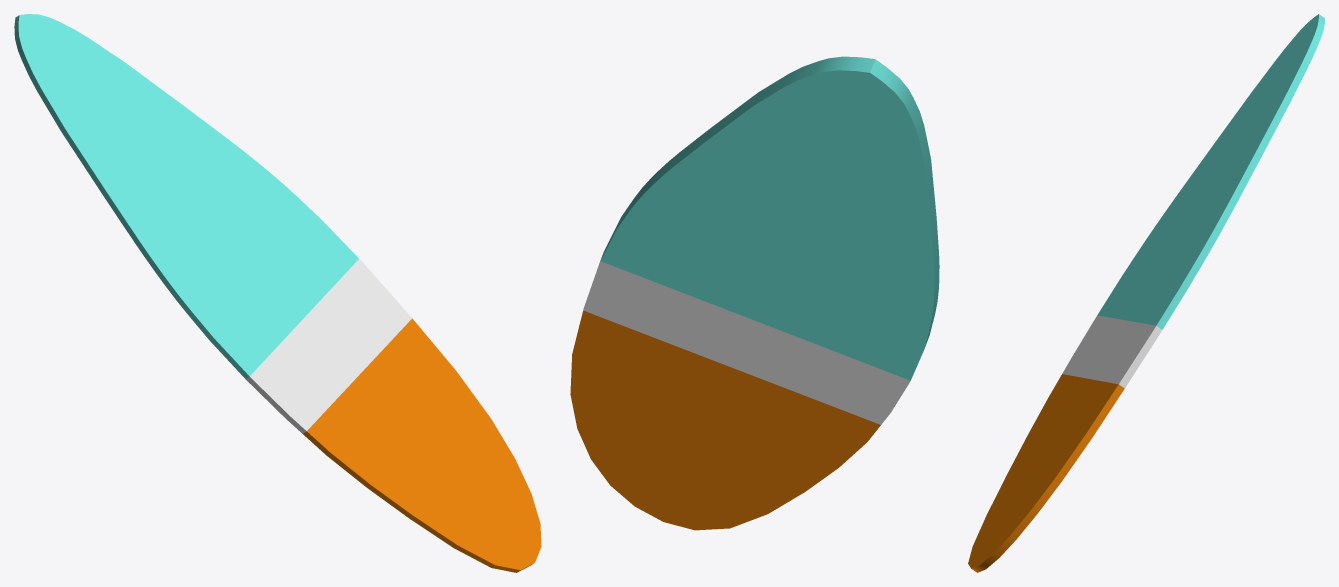
File: surfboard.glb
3 views of the same model, side by side, from view 1: azimuth 30°, elevation 25°; view 2: azimuth 150°, elevation 25°; view 3: azimuth 270°, elevation 25° (orthographic). The views are drawn at different scales.
Visible parts, largest first — view 1: Circle; view 2: Circle; view 3: Circle.
Part boxes in pixels (x1,y1,x2,y2): Circle: (14, 14, 541, 572); Circle: (570, 56, 939, 530); Circle: (968, 14, 1324, 572).
Size of the model in its own units: 1.66 by 2.24 by 1.71.
